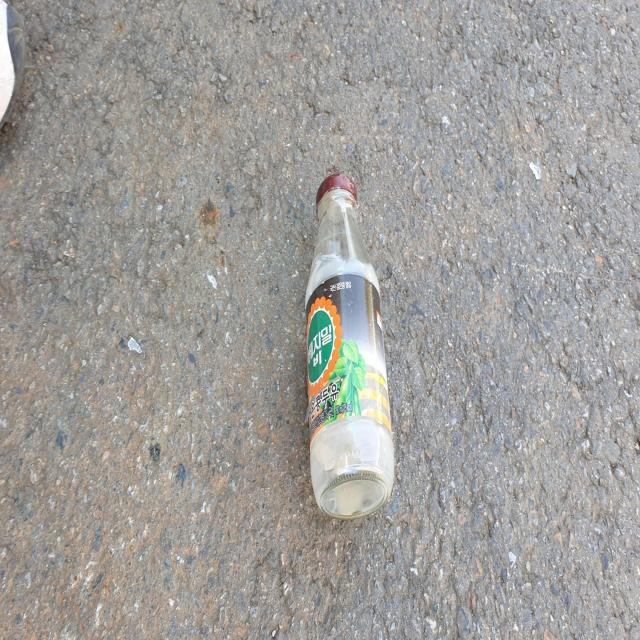glass: (306, 174, 395, 519)
